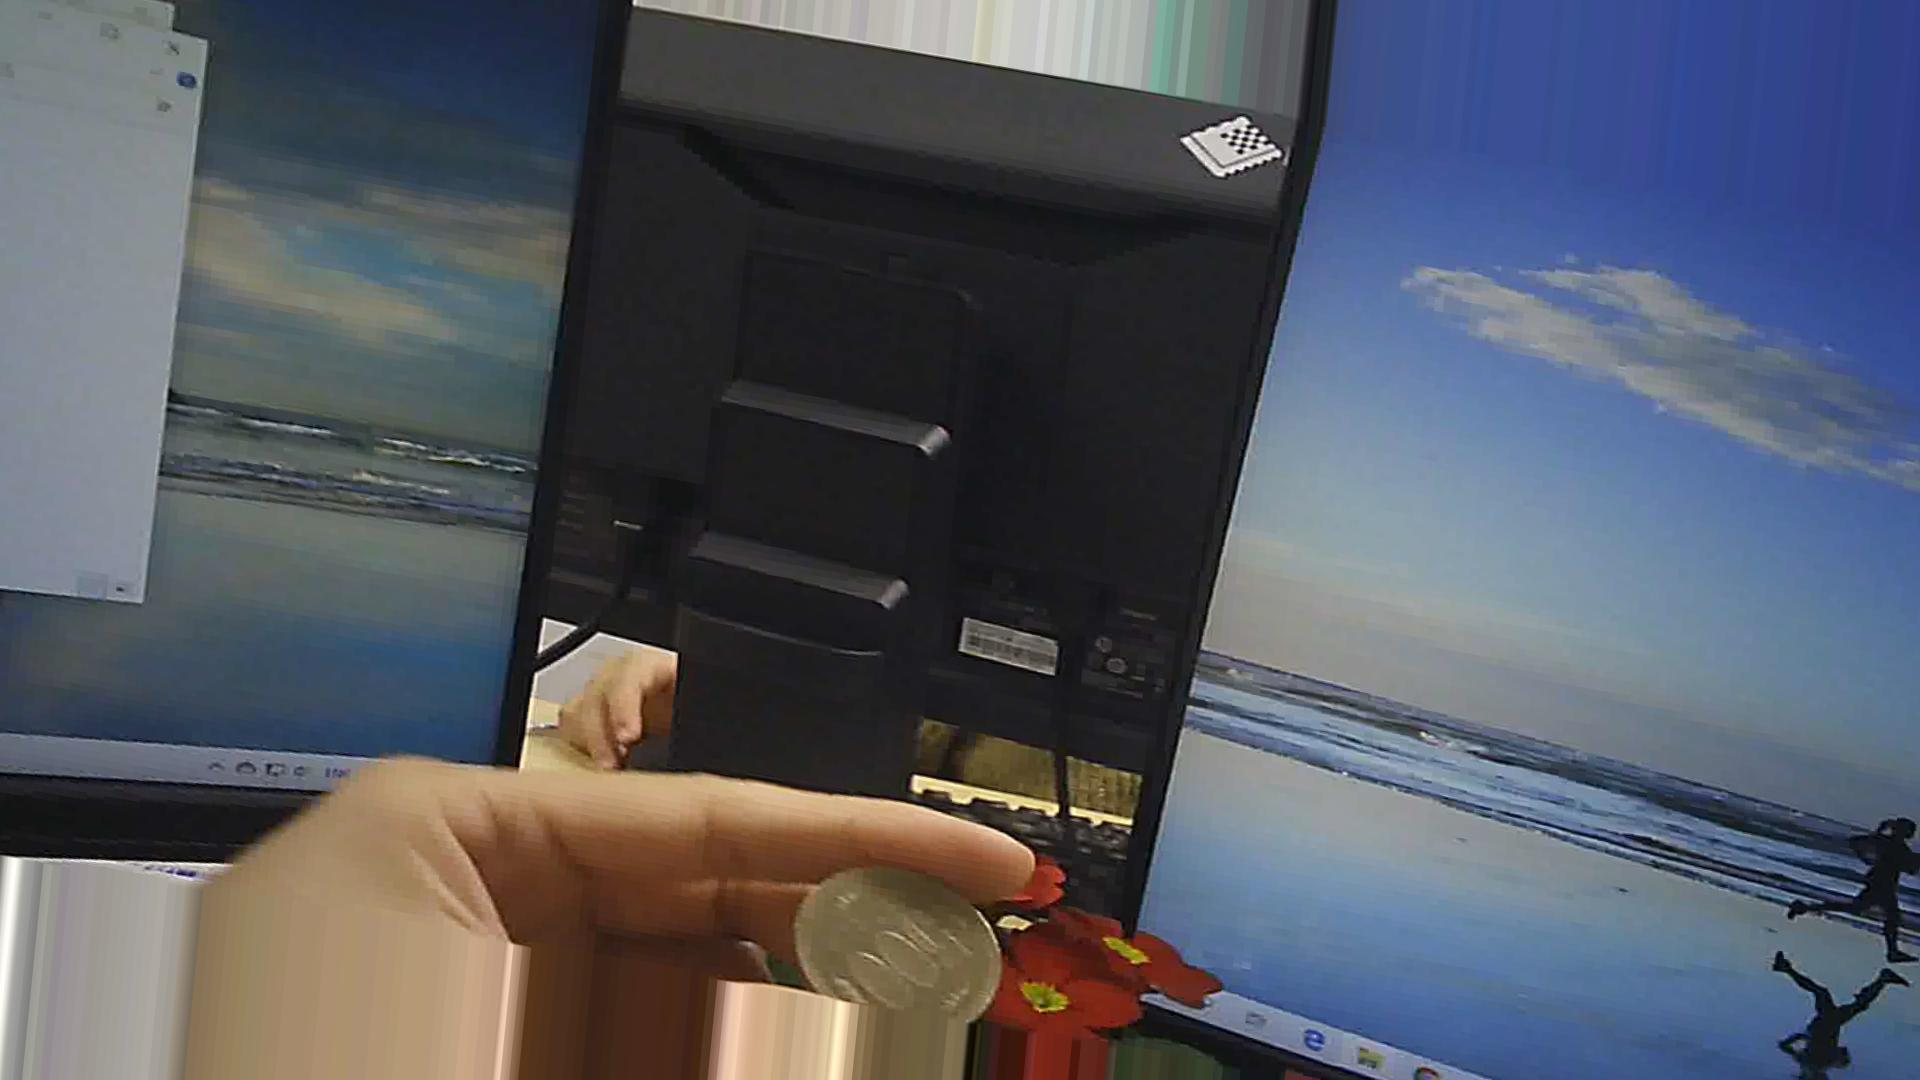500 Yen: (785, 860, 1007, 1033)
